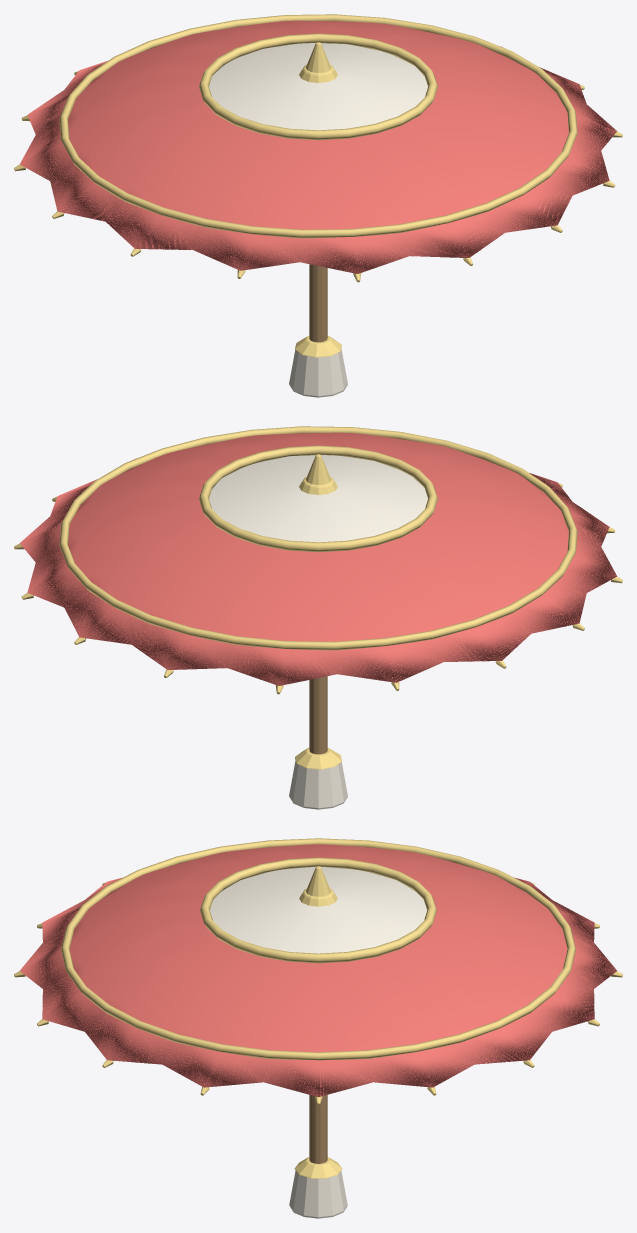
File: silk_parasol.glb
3 views of the same model, one above another, from view 1: azimuth 30°, elevation 25°; view 2: azimuth 150°, elevation 25°; view 3: azimuth 270°, elevation 25° (orthographic).
Visible parts, largest first — view 1: ScallopedCanopy, BobCap, CanopyCrown, BambooRib0; view 2: ScallopedCanopy, BobCap, CanopyCrown, BambooRib0; view 3: ScallopedCanopy, BobCap, CanopyCrown, BambooRib0.
Boxes of the visible parts, left/top/right/bottom form: ScallopedCanopy: left=19, top=20, right=616, bottom=273; BobCap: left=14, top=14, right=622, bottom=357; CanopyCrown: left=209, top=43, right=427, bottom=397; BambooRib0: left=64, top=183, right=603, bottom=342; ScallopedCanopy: left=20, top=432, right=617, bottom=685; BobCap: left=14, top=426, right=622, bottom=769; CanopyCrown: left=209, top=455, right=427, bottom=809; BambooRib0: left=33, top=595, right=572, bottom=754; ScallopedCanopy: left=20, top=844, right=616, bottom=1097; BobCap: left=14, top=838, right=622, bottom=1178; CanopyCrown: left=210, top=866, right=426, bottom=1218; BambooRib0: left=48, top=1021, right=588, bottom=1163.
Bounding box in the file's own units: 4.93 × 3.04 × 4.93.
